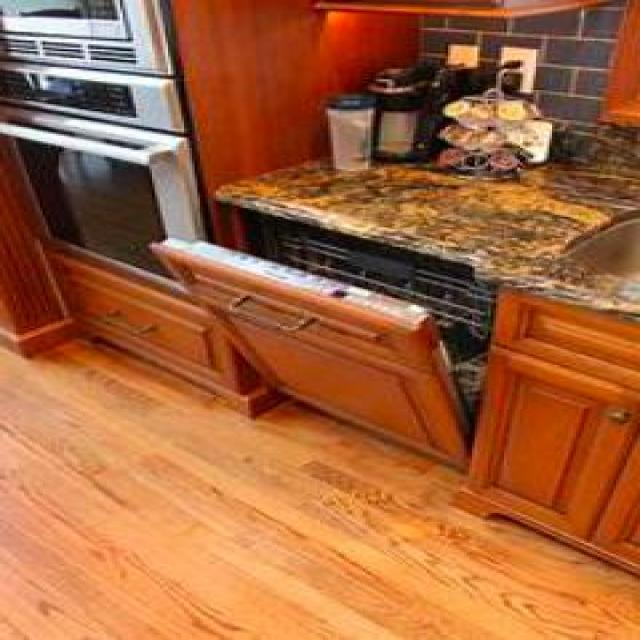dishwasher: (149, 192, 496, 478)
